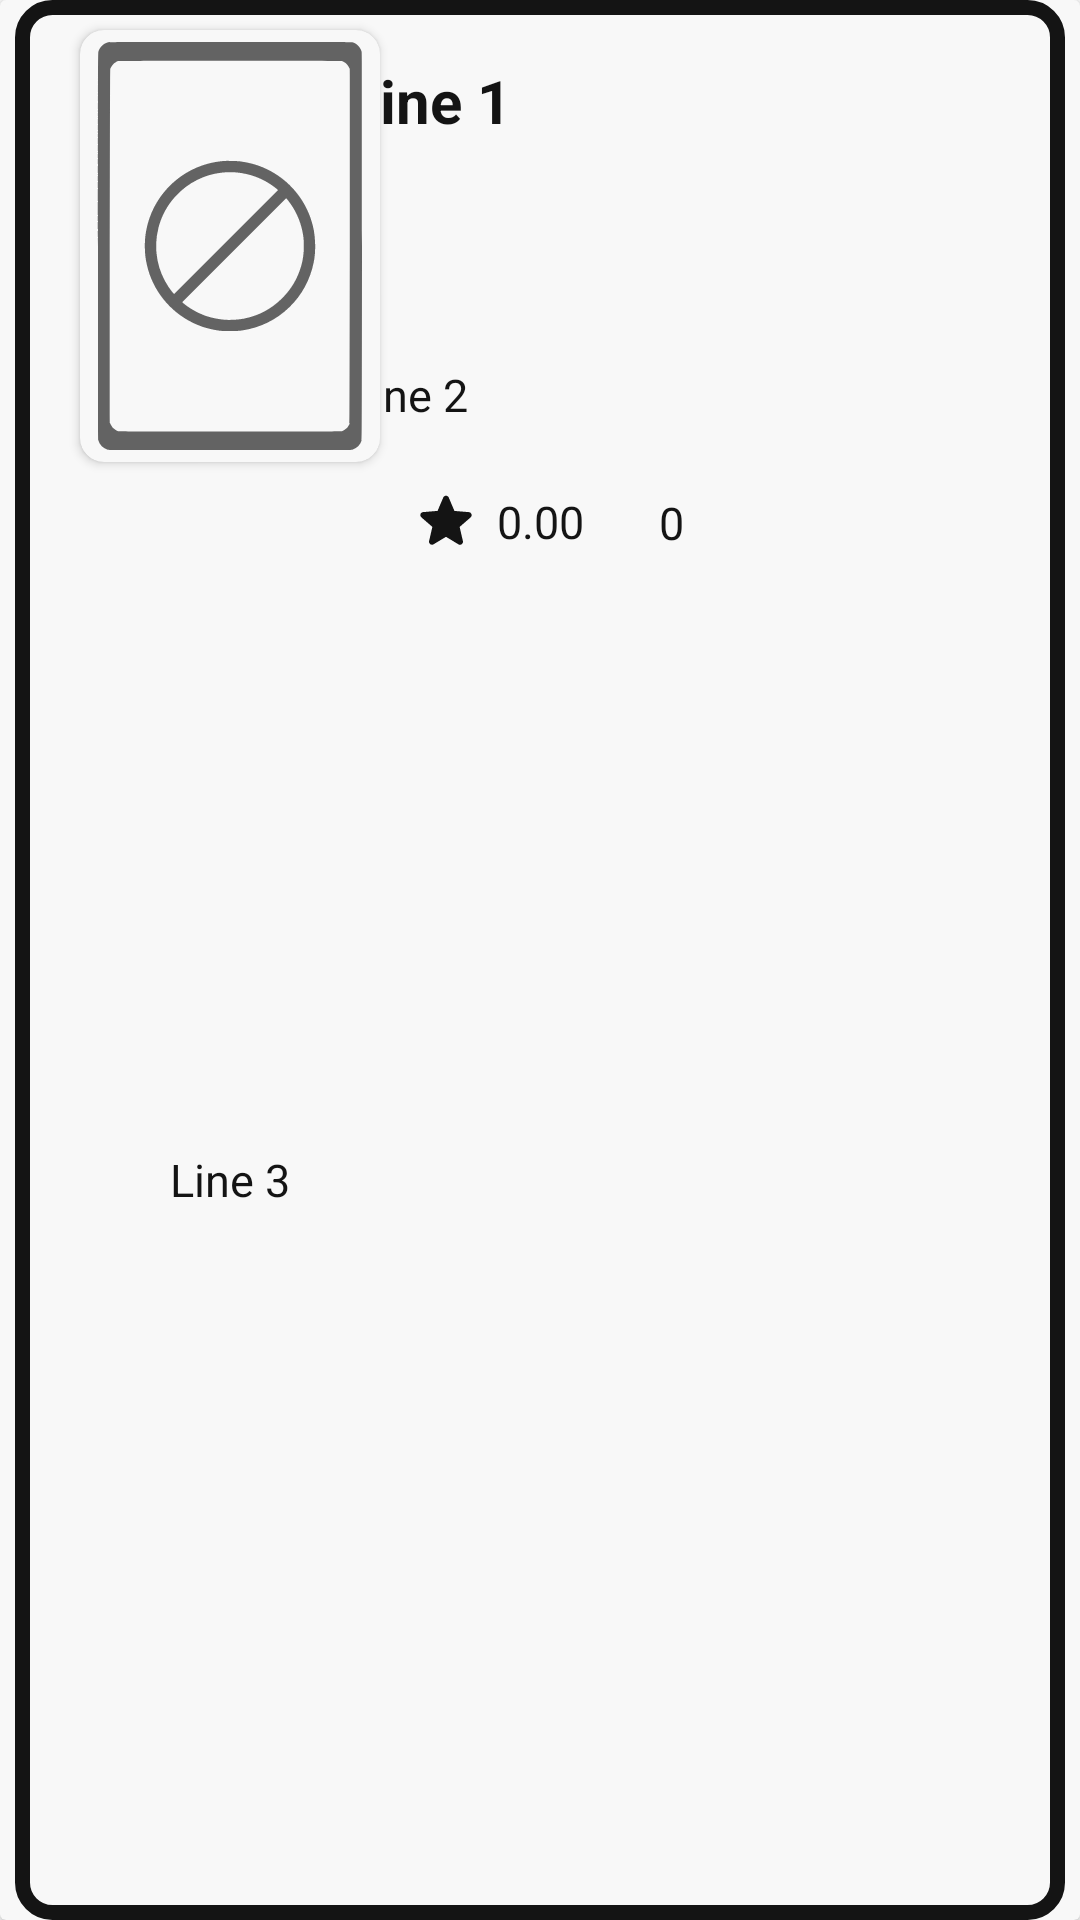

Icon bounding boxes for this 1080*1920 phone screenshot, format [x1=x1, y1=y1, x2=x2, y2=y2]:
star: [x1=420, y1=495, x2=472, y2=545]
